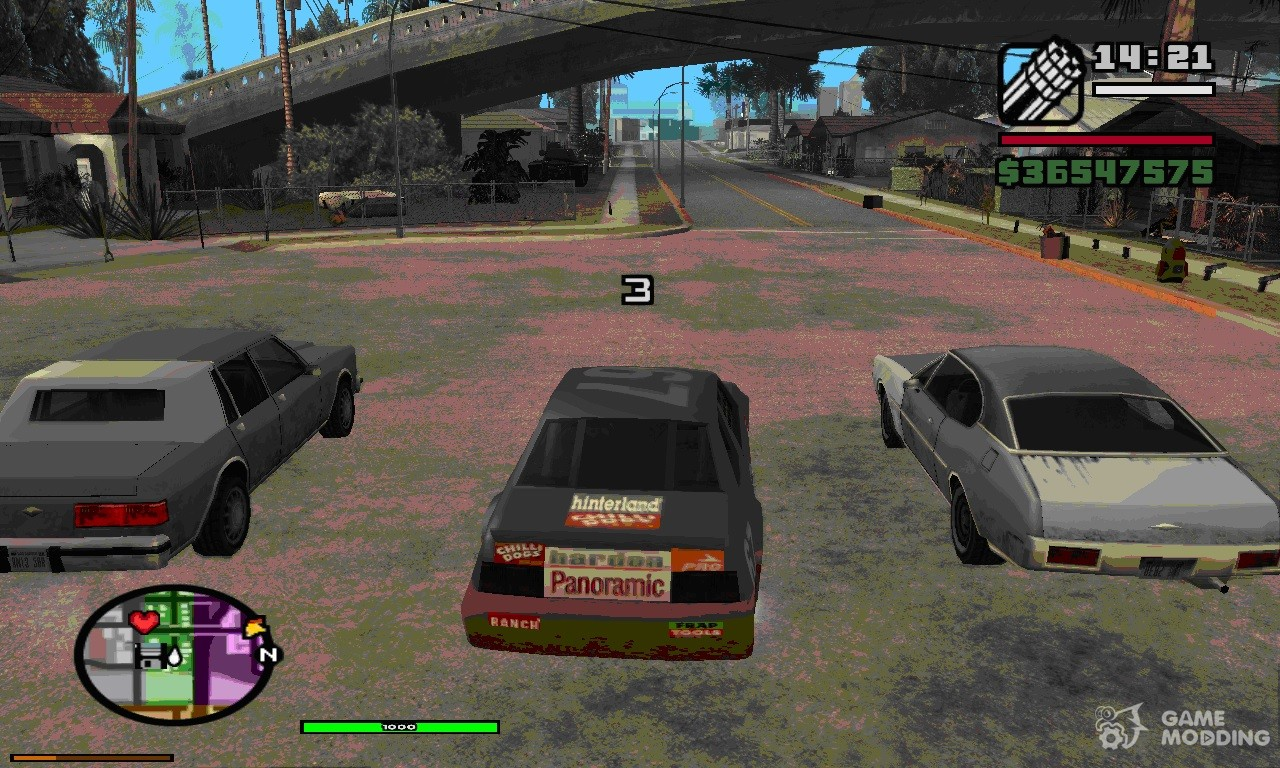car: (870, 330, 1280, 634), (1, 311, 360, 574), (482, 363, 772, 674)
